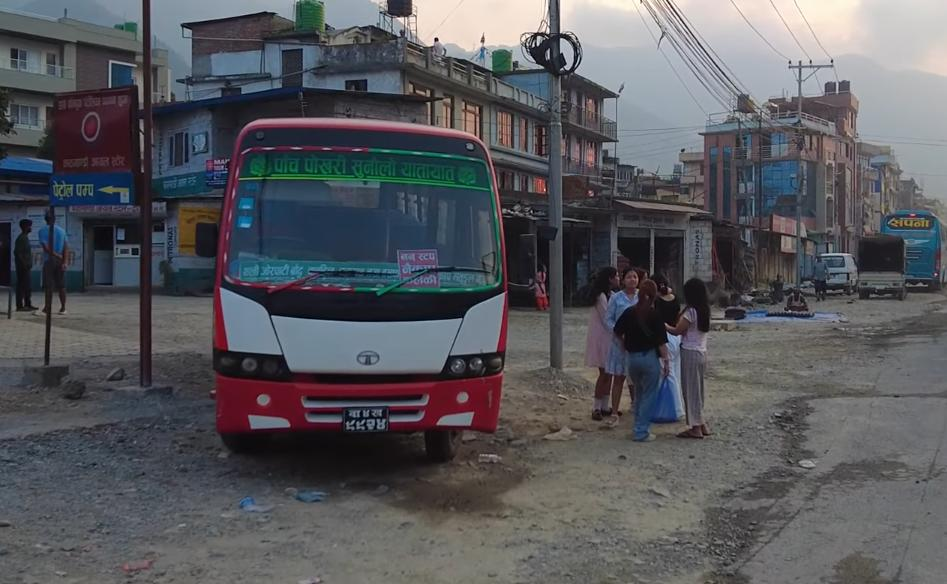bus: (197, 109, 511, 471)
